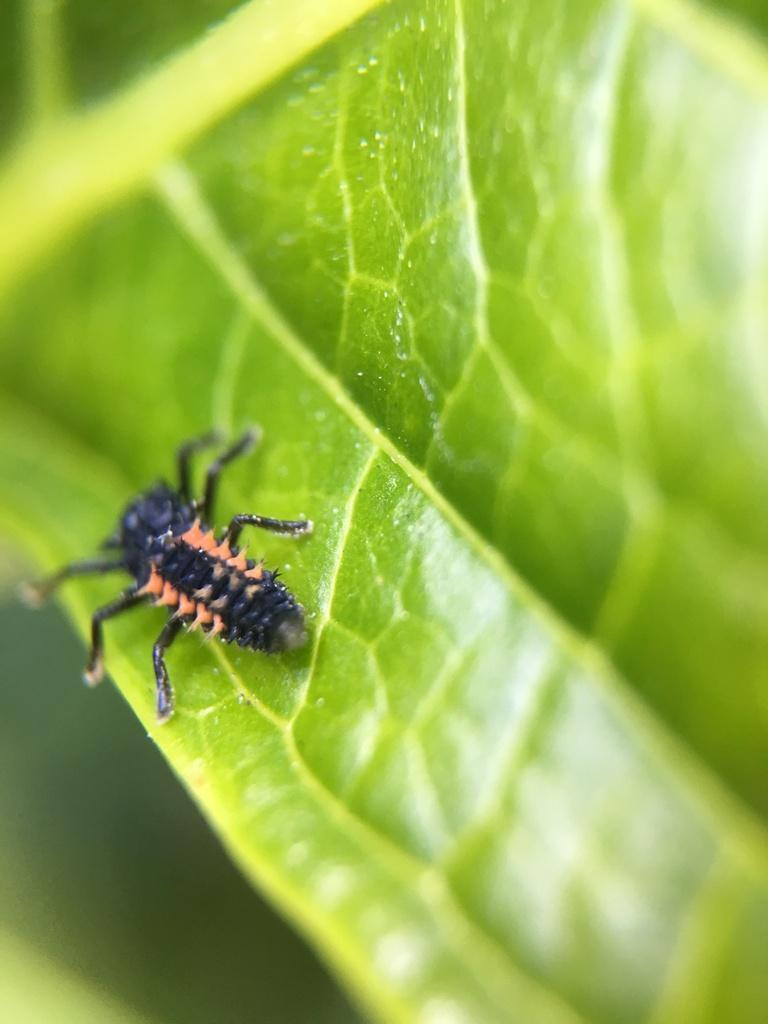ladybug: (19, 426, 319, 726)
